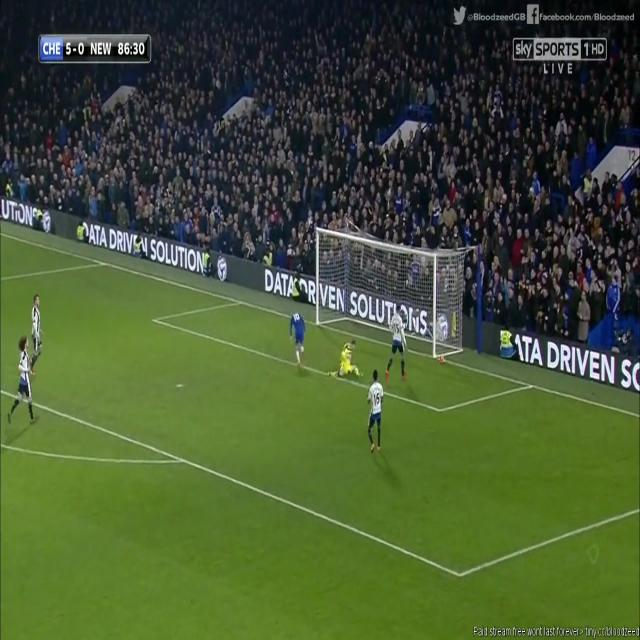Ball: (438, 352, 446, 364)
Goalkeeper: (327, 338, 362, 383)
Player: (4, 336, 38, 426), (382, 303, 408, 386), (365, 368, 387, 456), (29, 293, 45, 378), (287, 311, 307, 369)
